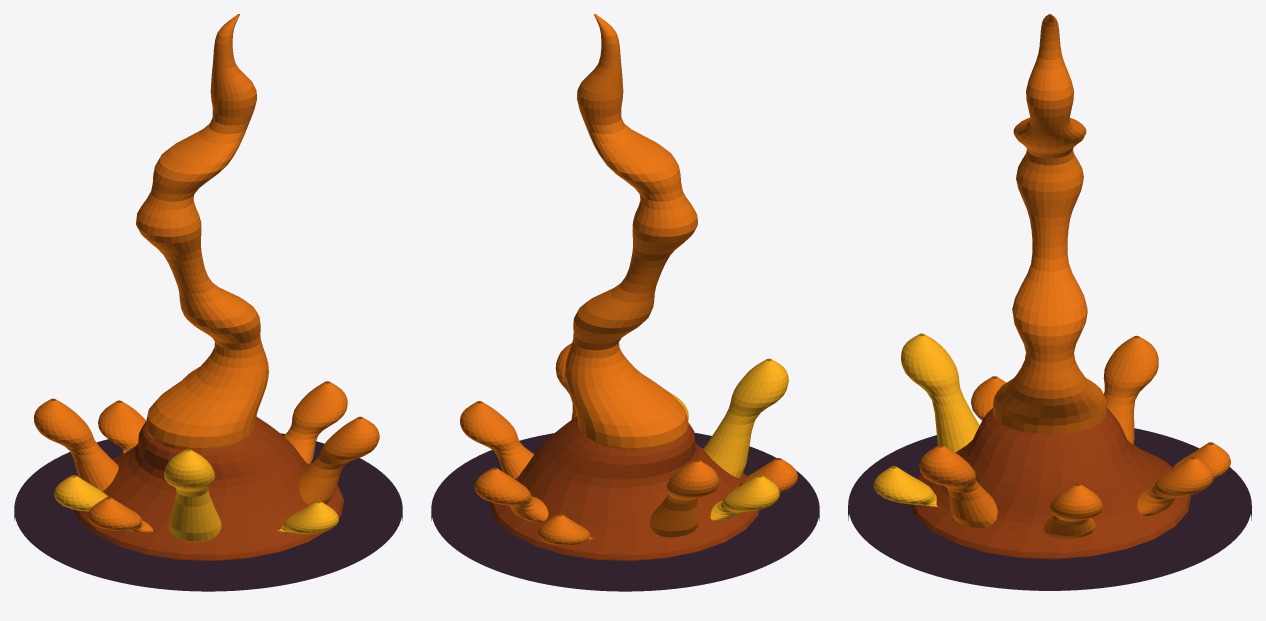
3 views of the same model, side by side, from view 1: azimuth 30°, elevation 25°; view 2: azimuth 150°, elevation 25°; view 3: azimuth 270°, elevation 25° (orthographic). The views are drawn at different scales.
Size of the model in its own units: 3.2 by 4.57 by 3.2.
Materials: 13 (13 with a texture image).
